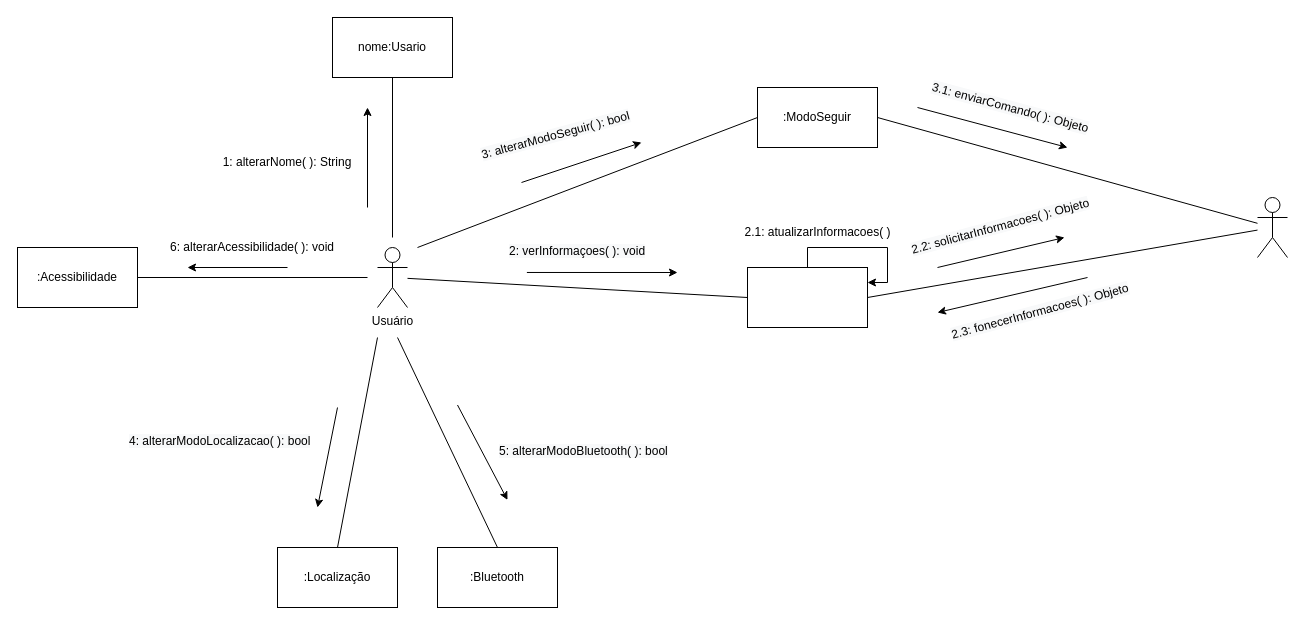
The diagram is 1307 pixels wide and 625 high, and some of its shapes have lost their labels. The shapes that lost their labels are listed below. From the top down, each one's box as (x1, y1, x2, y2) in pixels, then its label:
(1256, 196, 1288, 258): Cooler
(746, 266, 868, 328): :InformaçõesCooler
